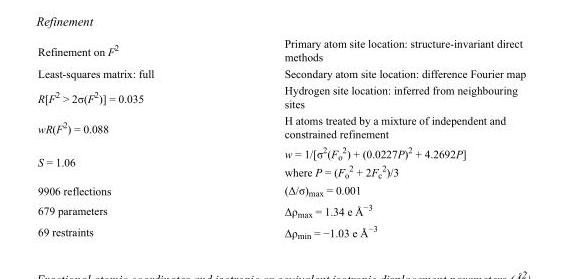table: (37, 36, 525, 239)
table column: (218, 36, 525, 239), (37, 36, 218, 239)
table row: (37, 142, 525, 181), (37, 111, 525, 142), (37, 81, 525, 111), (37, 36, 525, 64), (37, 199, 525, 220), (37, 220, 525, 239), (37, 181, 525, 199), (37, 64, 525, 81)
